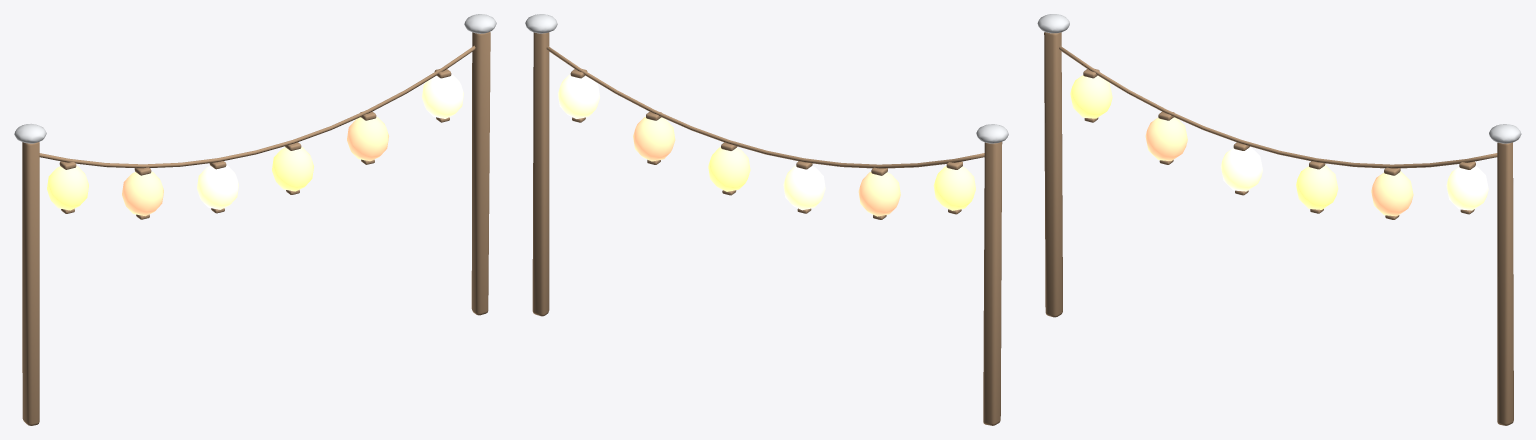
Rendered from lantern_string.glb.
3 renders of one model, left to right at view 1: azimuth 30°, elevation 25°; view 2: azimuth 150°, elevation 25°; view 3: azimuth 330°, elevation 25°, orthographic.
Parts seen in each view (by area): view 1: Pole, Pole.001, Rope, Lantern.004, Lantern.003, Lantern, Lantern.001, Lantern.002, Lantern.005, PoleSnow, PoleSnow.001; view 2: Pole, Pole.001, Rope, Lantern.001, Lantern.003, Lantern.002, Lantern, Lantern.004, Lantern.005, PoleSnow, PoleSnow.001; view 3: Pole, Pole.001, Rope, Lantern.002, Lantern.001, Lantern.004, Lantern.005, Lantern.003, Lantern, PoleSnow.001, PoleSnow.
Boxes of the visible parts, bbox=[...] form: Pole: bbox=[22, 142, 39, 425]; Pole.001: bbox=[471, 32, 490, 315]; Rope: bbox=[39, 45, 475, 168]; Lantern.004: bbox=[347, 116, 388, 161]; Lantern.003: bbox=[272, 147, 313, 191]; Lantern: bbox=[47, 166, 88, 210]; Lantern.001: bbox=[122, 171, 163, 216]; Lantern.002: bbox=[197, 165, 238, 209]; Lantern.005: bbox=[422, 74, 463, 118]; PoleSnow: bbox=[14, 123, 46, 143]; PoleSnow.001: bbox=[464, 14, 496, 33]; Pole: bbox=[983, 142, 1002, 425]; Pole.001: bbox=[532, 32, 549, 316]; Rope: bbox=[546, 45, 984, 168]; Lantern.001: bbox=[858, 172, 900, 216]; Lantern.003: bbox=[708, 147, 750, 191]; Lantern.002: bbox=[783, 165, 825, 210]; Lantern: bbox=[933, 166, 975, 210]; Lantern.004: bbox=[633, 116, 675, 161]; Lantern.005: bbox=[558, 74, 600, 118]; PoleSnow: bbox=[976, 124, 1008, 143]; PoleSnow.001: bbox=[525, 14, 557, 33]; Pole: bbox=[1044, 32, 1062, 317]; Pole.001: bbox=[1497, 142, 1513, 425]; Rope: bbox=[1059, 45, 1497, 168]; Lantern.002: bbox=[1220, 146, 1262, 191]; Lantern.001: bbox=[1145, 117, 1187, 161]; Lantern.004: bbox=[1371, 171, 1413, 216]; Lantern.005: bbox=[1446, 165, 1488, 210]; Lantern.003: bbox=[1296, 165, 1338, 209]; Lantern: bbox=[1070, 75, 1112, 118]; PoleSnow.001: bbox=[1489, 124, 1521, 143]; PoleSnow: bbox=[1037, 14, 1069, 33].
Size of the model in its own units: 5.08 by 3.03 by 0.4.
